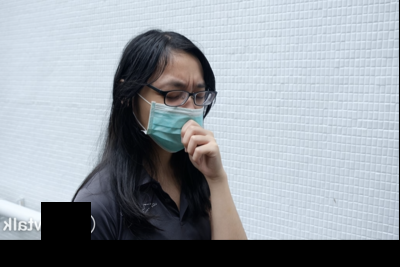with_mask: (140, 77, 207, 155)
